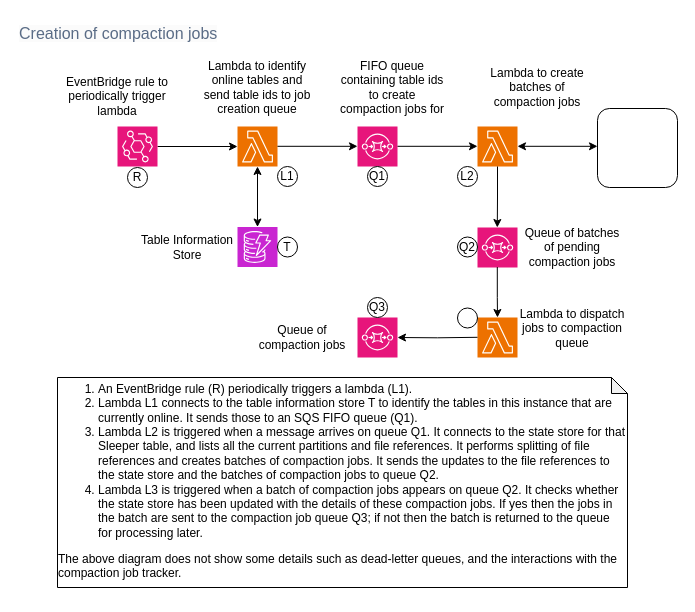
The diagram is 695 pixels wide and 612 high, and some of its shapes have lost their labels. Each missing label, with the centre of its shape:
L3: (x=467, y=317)
State stores: (x=637, y=148)
